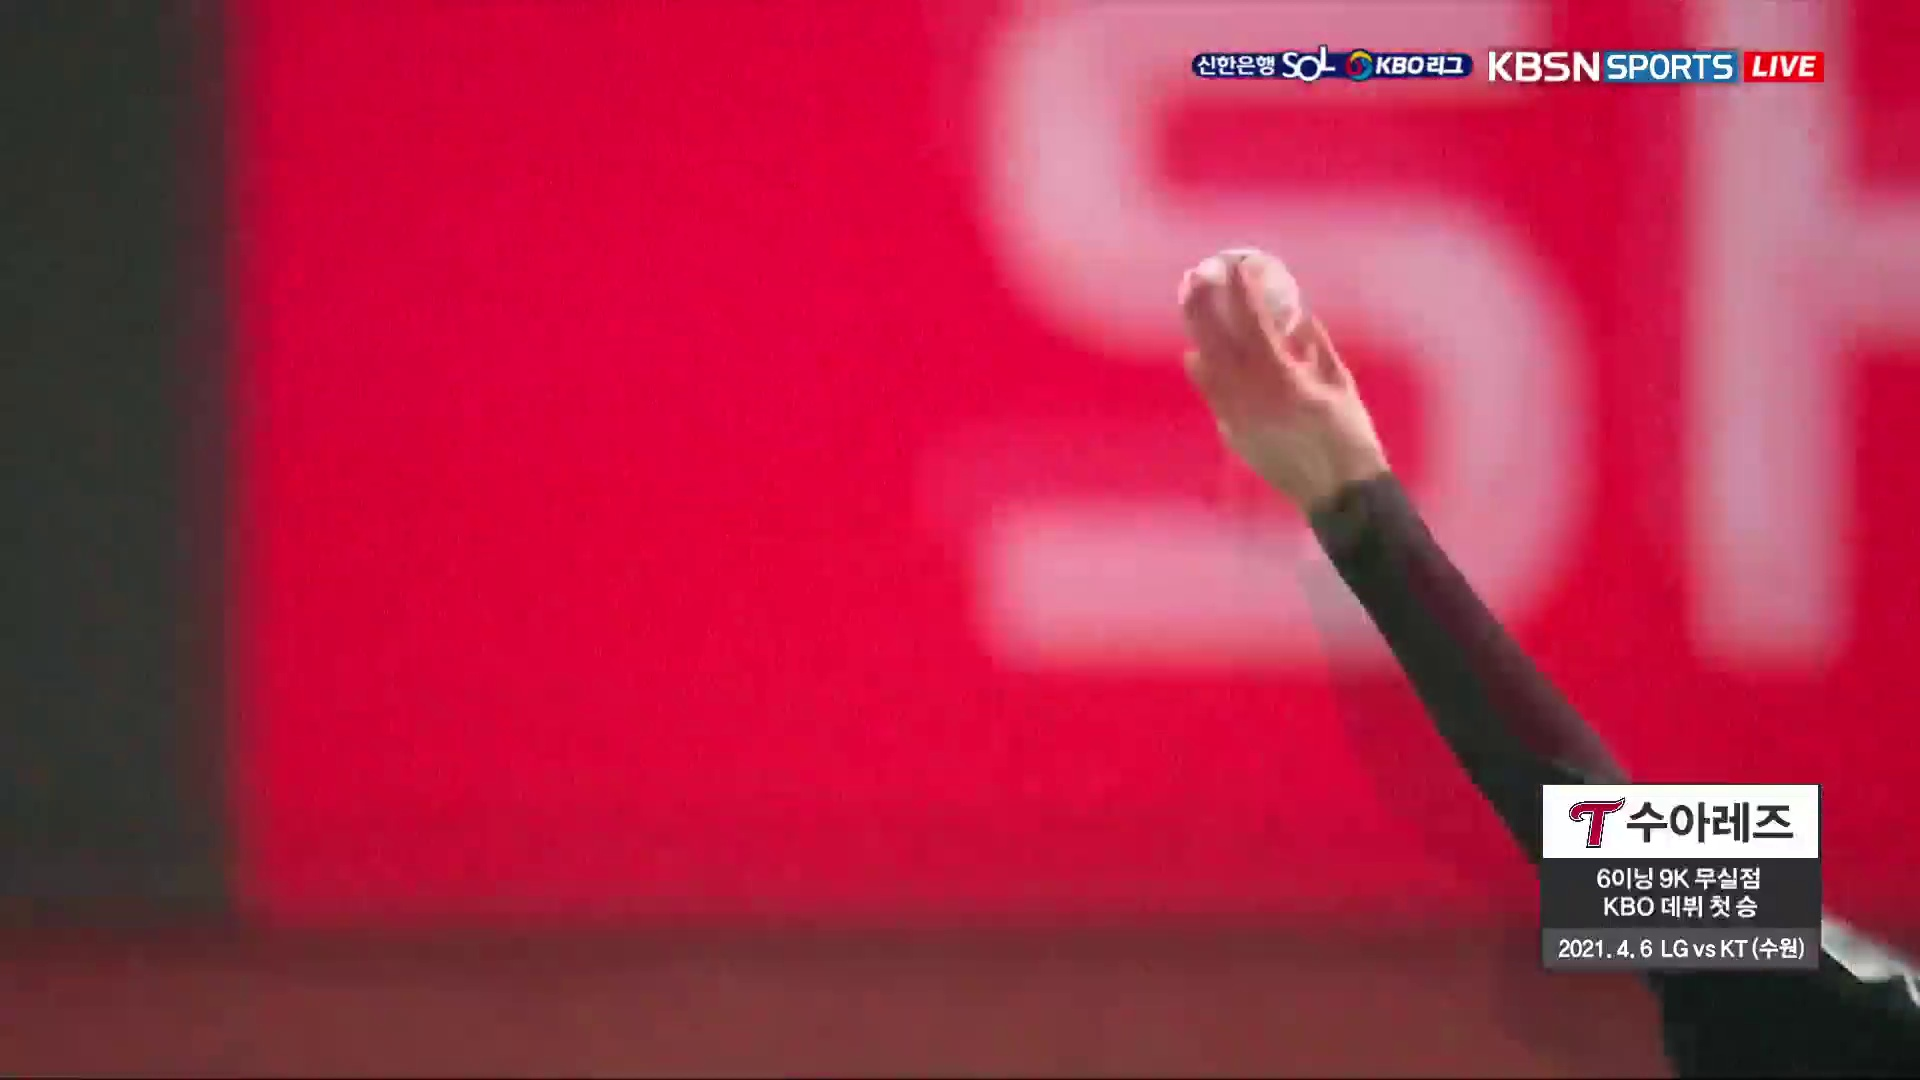zoomin_hand: (1160, 236, 1629, 779)
